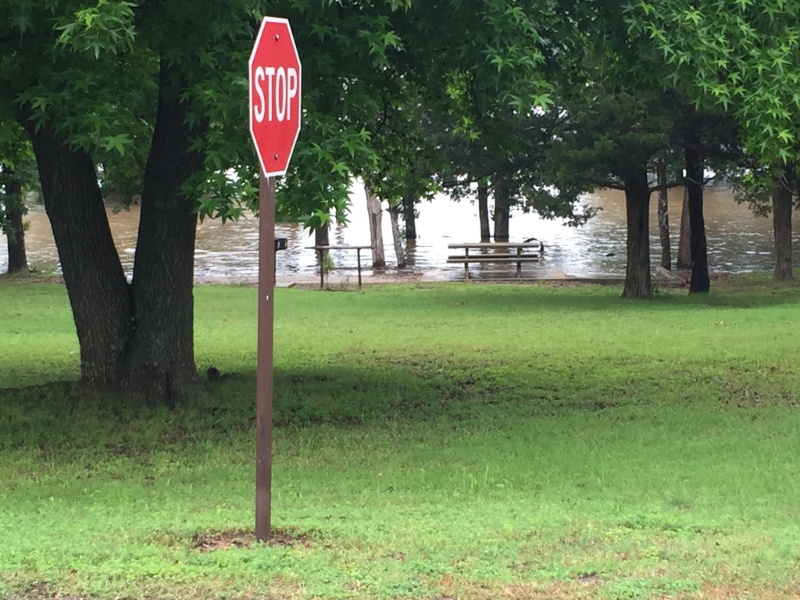stop: (239, 17, 341, 178)
